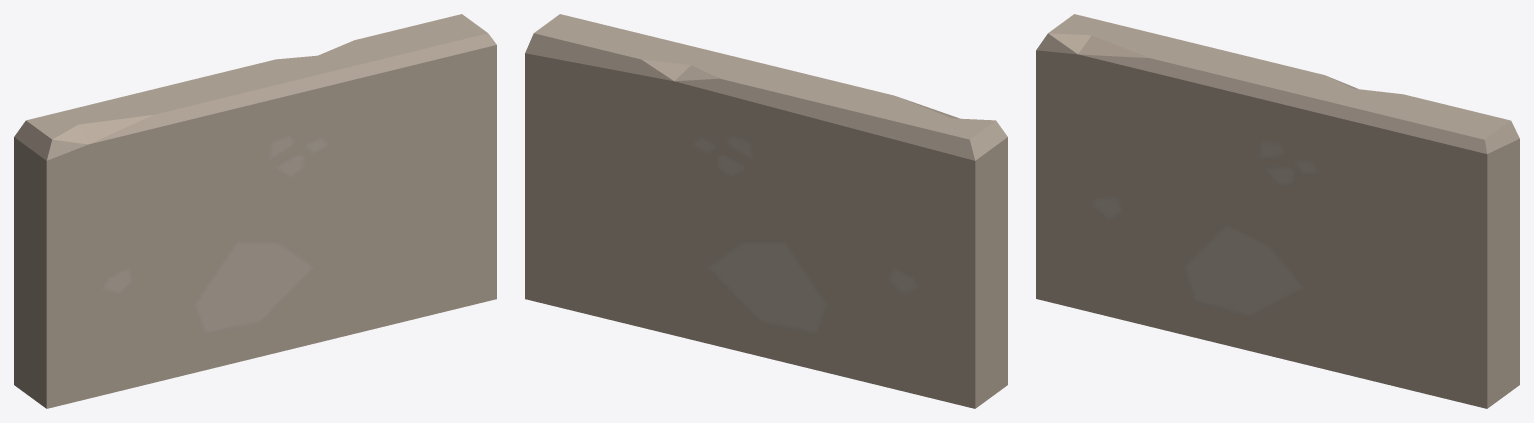
Rendered from SM_Bld_Village_Wall_01.glb.
3 views of the same model, side by side, from view 1: azimuth 30°, elevation 25°; view 2: azimuth 150°, elevation 25°; view 3: azimuth 330°, elevation 25° (orthographic).
Parts seen in each view (by area): view 1: SM_Bld_Village_Wall_01; view 2: SM_Bld_Village_Wall_01; view 3: SM_Bld_Village_Wall_01.
Part boxes in pixels (left/top/right/bottom): SM_Bld_Village_Wall_01: left=14, top=14, right=496, bottom=408; SM_Bld_Village_Wall_01: left=525, top=14, right=1007, bottom=408; SM_Bld_Village_Wall_01: left=1036, top=14, right=1519, bottom=408.
Size of the model in its own units: 2.85 by 1.6 by 0.3583.
Materials: 1 (1 with a texture image).
